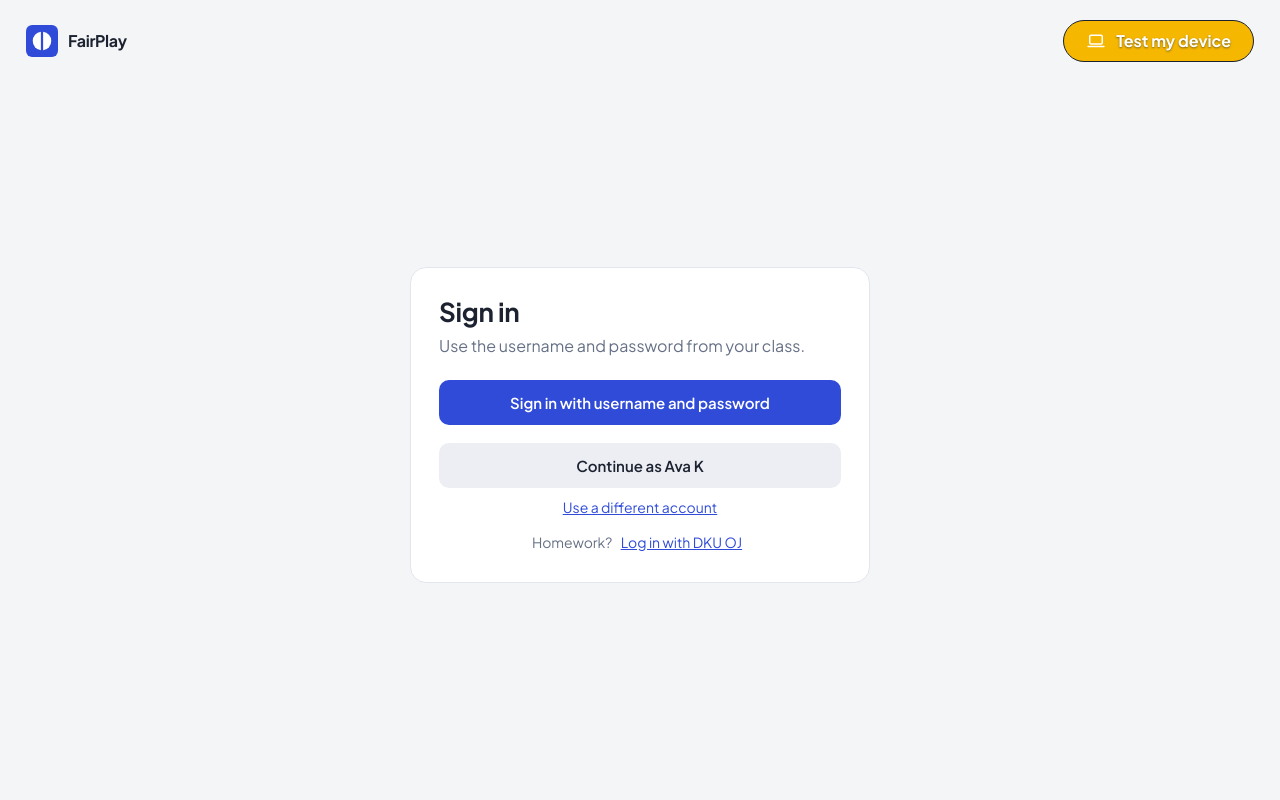
it: Continue as › 401: forgets the stored item and asks to sign in again
Click the button "Continue as Ava K" at (640, 465), box x1=439 y1=443 x2=841 y2=488
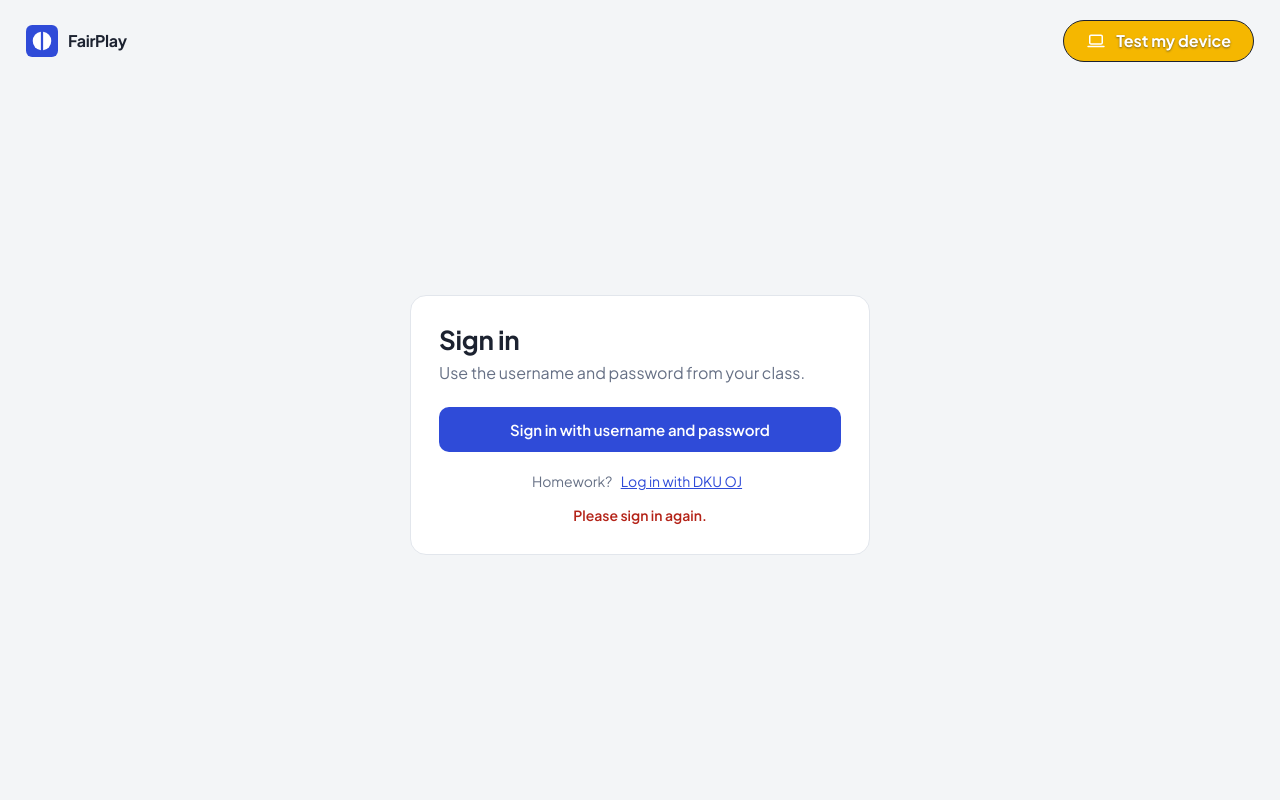
Check: the message reads "Please sign in again.", box x1=573 y1=506 x2=707 y2=524
Check: the button "Continue as" is gone
